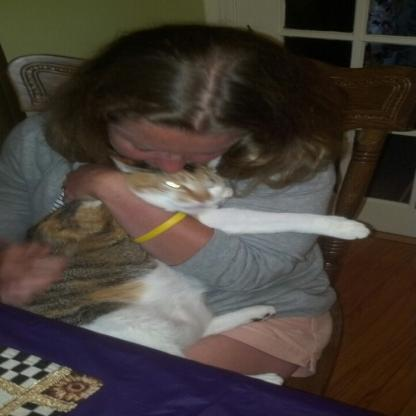Target: (37, 156, 356, 356)
